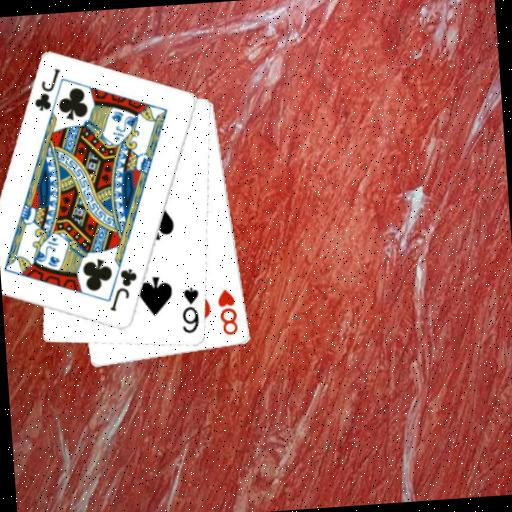6S: (177, 283, 203, 335)
8H: (214, 285, 241, 338)
JC: (105, 265, 142, 314), (29, 65, 66, 114)
